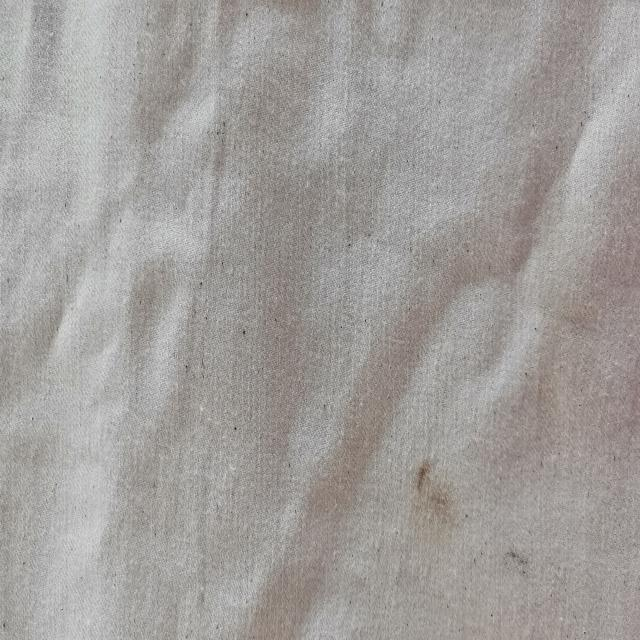taaaches: (408, 448, 464, 544), (492, 536, 534, 588)
